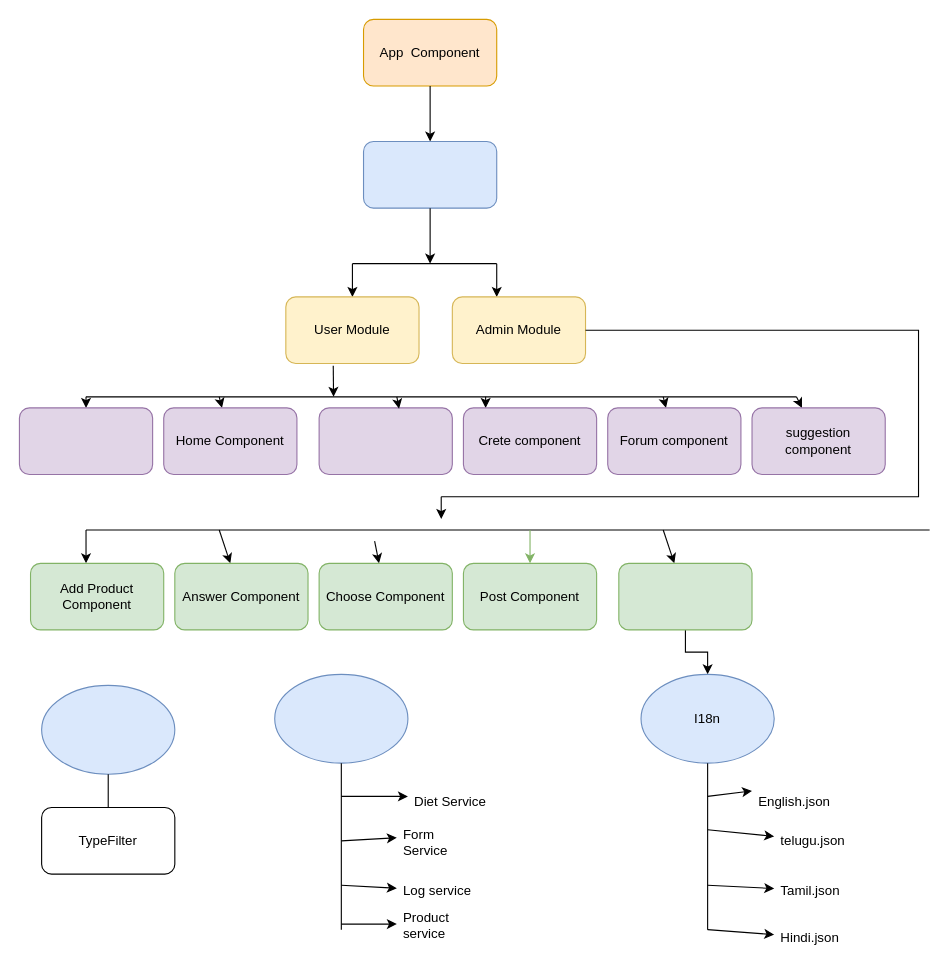
This 950x977 diagram has some shape labels left out. The box of each missing label's shape, as (x1, y1, x2, y2) in pixels:
Diet Plan Component: (318, 407, 452, 475)
Login Component: (362, 140, 497, 208)
Menubar Component: (18, 407, 153, 475)
pipes: (41, 684, 175, 774)
Productlist Component: (618, 562, 752, 630)
Services: (274, 673, 408, 763)
